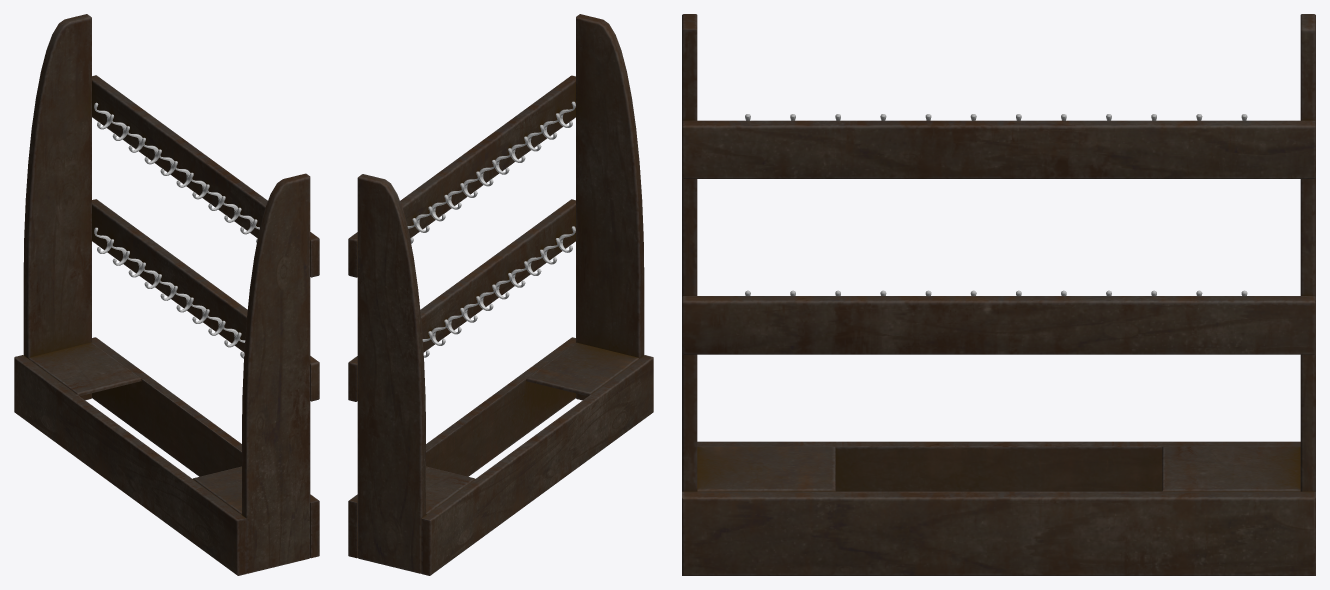
File: SM_Schoolhallway_06.fbx
3 views of the same model, side by side, from view 1: azimuth 30°, elevation 25°; view 2: azimuth 150°, elevation 25°; view 3: azimuth 270°, elevation 25° (orthographic). The views are drawn at different scales.
Visible parts, largest first — view 1: SM_Schoolhallway_06; view 2: SM_Schoolhallway_06; view 3: SM_Schoolhallway_06.
Part boxes in pixels (x1,y1,x2,y2): SM_Schoolhallway_06: [14, 14, 319, 575]; SM_Schoolhallway_06: [348, 14, 653, 575]; SM_Schoolhallway_06: [682, 14, 1315, 575].
Bounding box in the file's own units: 25.97 × 121 × 114.
